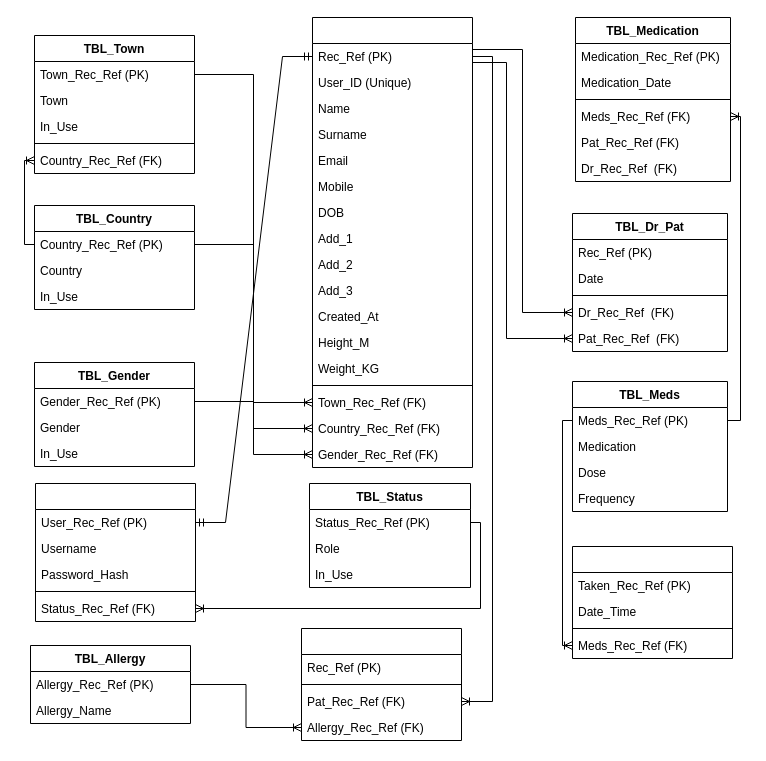
Image size: 766x761. Some labels were removed from this diagram. The shapes that lost their labels are listed below. From the top down, each one's box as (x1, y1, x2, y2) in pixels, then its label:
(312, 16, 472, 468): TBL_Pat_Dr
(34, 482, 196, 622): TBL_User
(572, 546, 732, 658): TBL_Taken
(300, 628, 462, 740): TBL_Pat_Allergy
